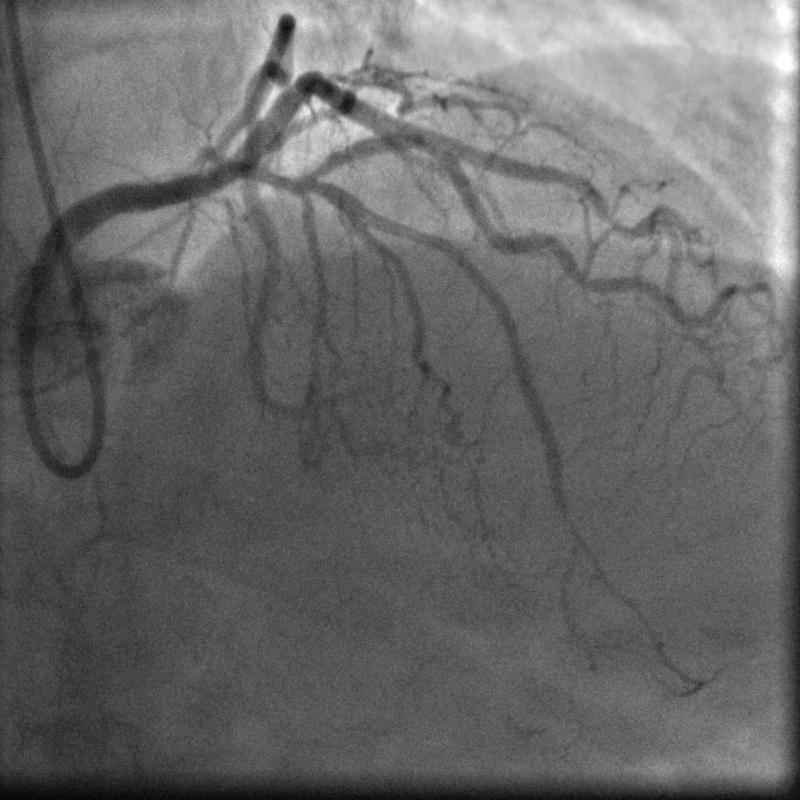Stenosis: (405, 126, 450, 159)
